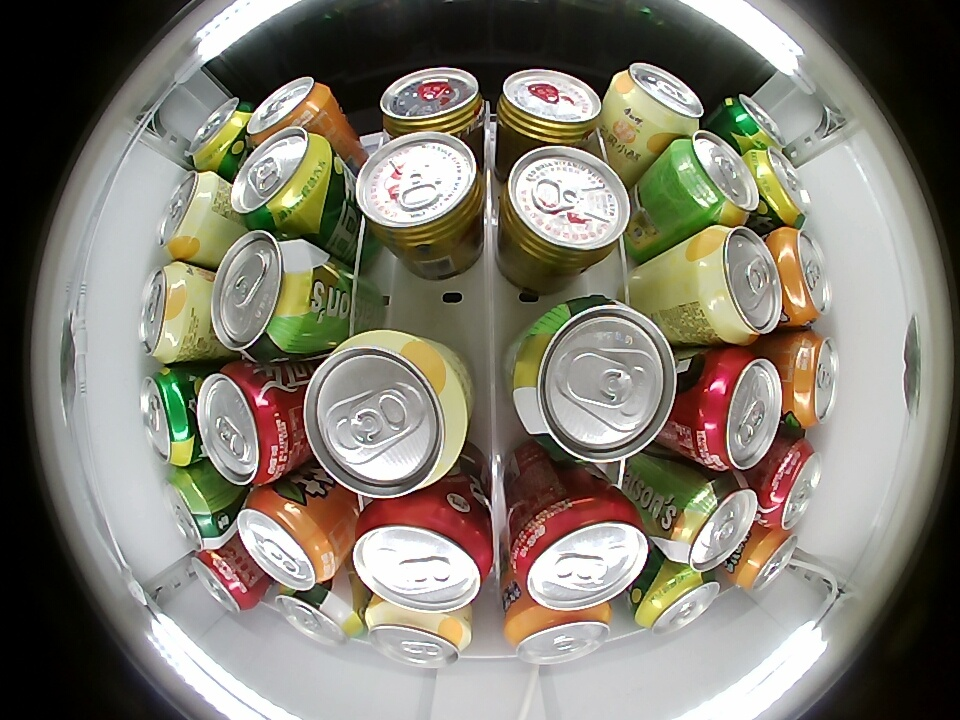fenda: (236, 489, 339, 591), (503, 602, 612, 665), (247, 77, 333, 147), (772, 228, 832, 326), (785, 332, 839, 429), (736, 528, 799, 593)
hongniu: (496, 68, 603, 144), (378, 67, 486, 137)
hongniu2: (501, 146, 630, 269), (355, 132, 485, 251)
kele: (352, 498, 493, 613), (510, 495, 650, 610), (197, 364, 292, 485), (691, 349, 783, 470), (759, 439, 823, 530), (189, 548, 256, 614)
mangguoxiaolao: (303, 331, 471, 497), (691, 226, 783, 344), (610, 62, 704, 139), (365, 606, 471, 669), (138, 263, 199, 363), (156, 171, 222, 260)
quchenshixiangcao: (511, 295, 680, 465), (210, 230, 312, 359), (666, 472, 758, 572), (668, 130, 759, 226), (273, 583, 364, 647), (163, 469, 224, 550)
xuebi2: (231, 129, 334, 230), (140, 368, 202, 467), (633, 567, 720, 634), (749, 146, 813, 227), (186, 96, 254, 171), (716, 93, 785, 150)
